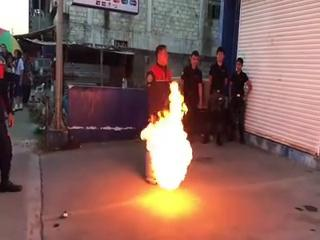Fire: (139, 74, 198, 195)
